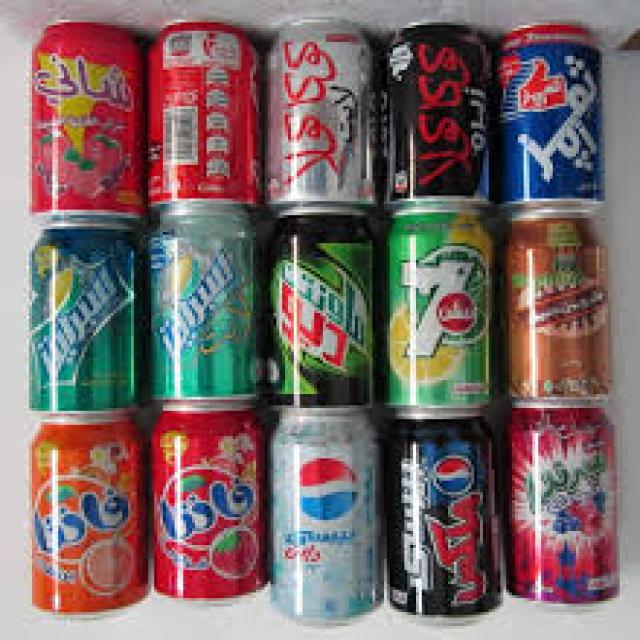metal: (381, 417, 500, 618), (259, 14, 381, 210), (265, 408, 378, 618), (378, 207, 492, 414), (29, 411, 148, 609), (29, 17, 140, 229), (140, 14, 256, 215), (503, 403, 617, 604), (142, 210, 259, 400), (151, 403, 262, 596), (265, 216, 378, 403), (26, 224, 140, 405), (500, 210, 608, 400), (381, 20, 489, 204), (498, 20, 602, 204)
